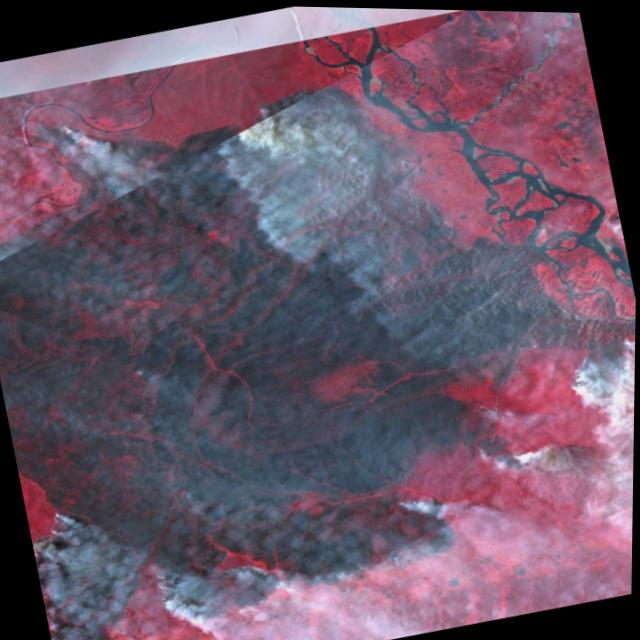fire: (152, 539, 270, 600), (472, 429, 558, 477), (384, 475, 450, 535), (572, 325, 636, 374), (44, 499, 74, 546), (43, 113, 86, 144)
